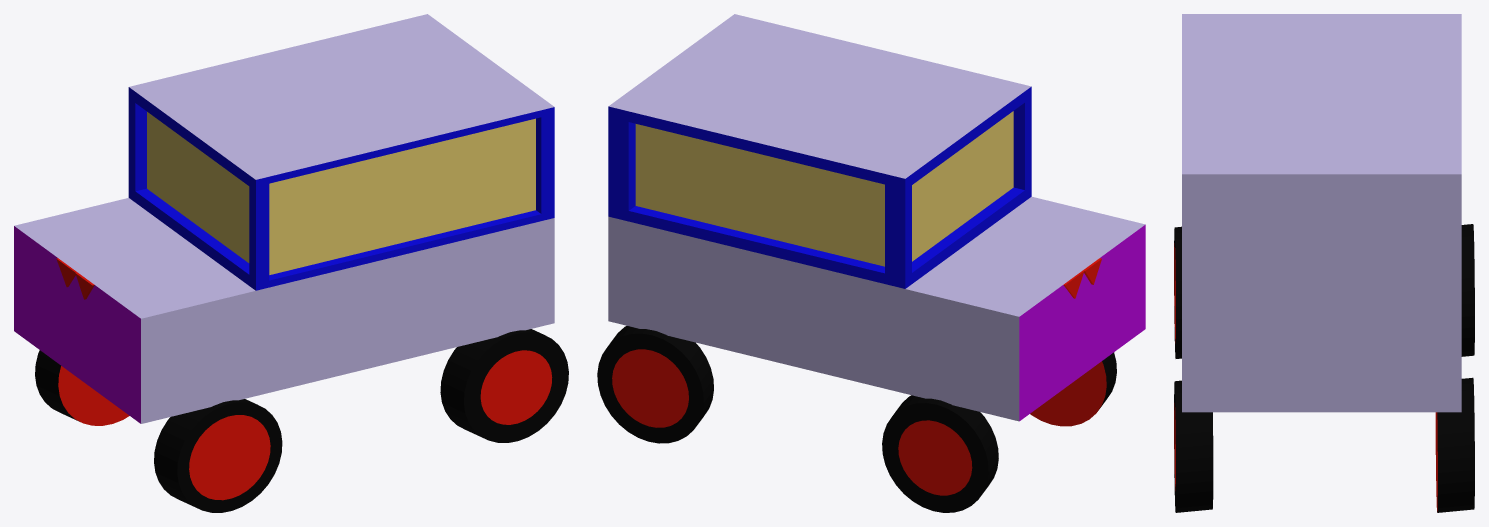
Rendered from sude.glb.
3 views of the same model, side by side, from view 1: azimuth 30°, elevation 25°; view 2: azimuth 150°, elevation 25°; view 3: azimuth 270°, elevation 25° (orthographic). The views are drawn at different scales.
Visible parts, largest first — view 1: Cube; view 2: Cube; view 3: Cube.
Boxes of the visible parts, x1,y1,x2,y2 form: Cube: (14, 14, 568, 512); Cube: (597, 14, 1145, 512); Cube: (1174, 14, 1474, 512).
Bounding box in the file's own units: 1.5 × 1.08 × 0.8313.
